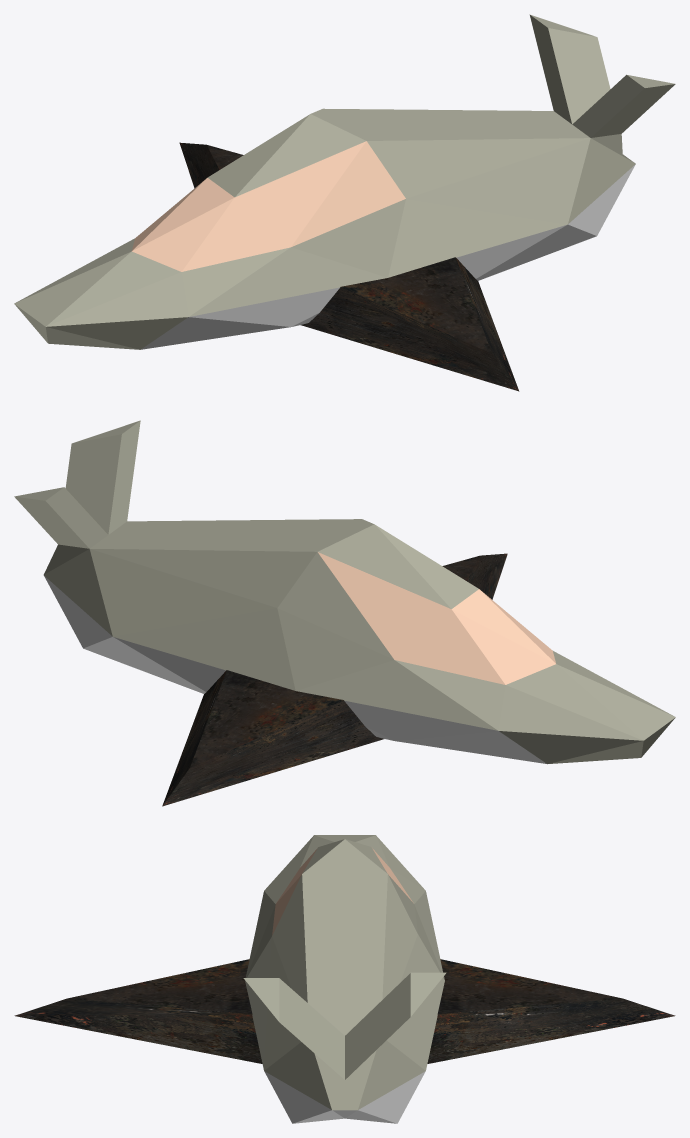
File: PlaneMagno.fbx
3 renders of one model, top to bottom at view 1: azimuth 30°, elevation 25°; view 2: azimuth 150°, elevation 25°; view 3: azimuth 270°, elevation 25°, orthographic. The views are drawn at different scales.
Parts seen in each view (by area): view 1: Icosphere; view 2: Icosphere; view 3: Icosphere.
Part boxes in pixels (left/top/right/bottom): Icosphere: left=14, top=14, right=675, bottom=391; Icosphere: left=14, top=420, right=675, bottom=806; Icosphere: left=14, top=835, right=675, bottom=1123.
Bounding box in the file's own units: 1018 × 303 × 979.
Materials: 4 (1 with a texture image).
